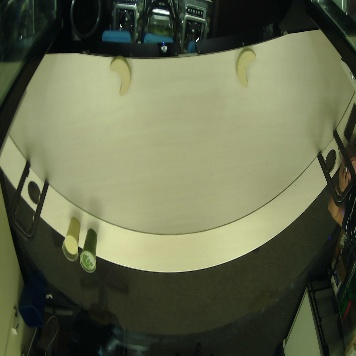full_cup: (80, 226, 103, 277), (60, 212, 83, 263)
puck: (107, 54, 136, 98), (231, 46, 260, 90)
